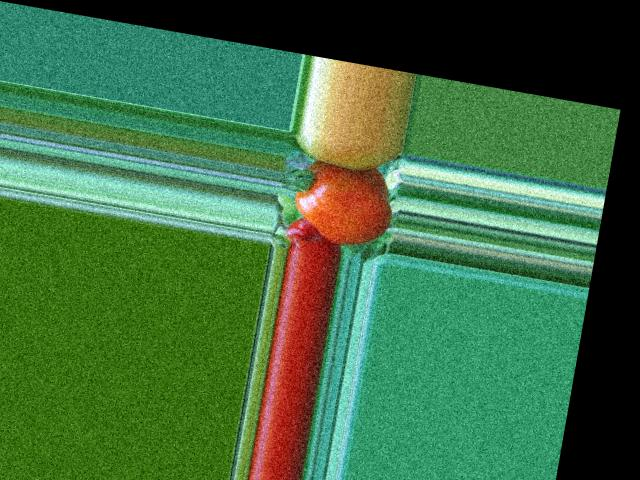tomato: (288, 159, 398, 252)
